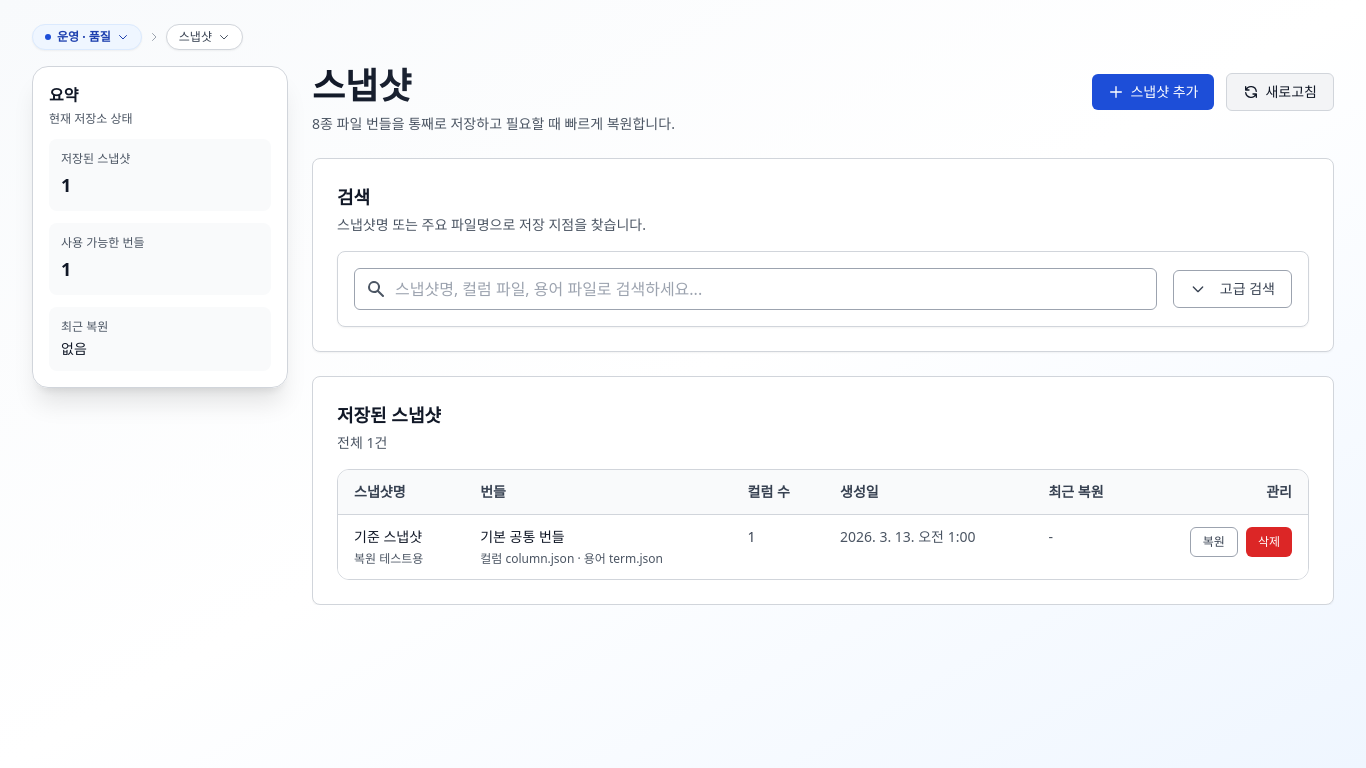
Test case: Snapshot browse page › should create a snapshot for the selected bundle
The width and height of the screenshot is (1366, 768).
Expected: the text "기준 스냅샷" is shown, [354,527,422,546]
Click the button "스냅샷 추가".
click(1153, 92)  # box [1092,74,1214,110]
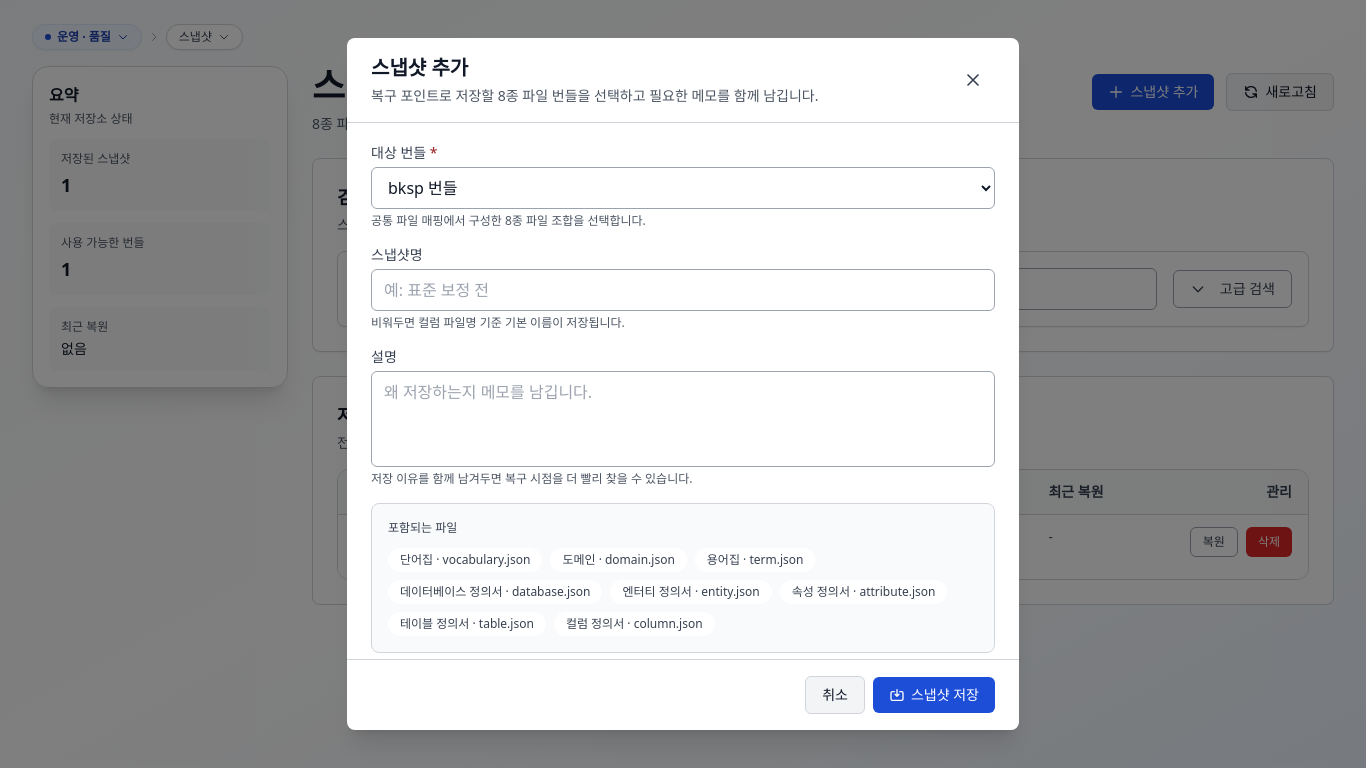
Type "표준 보정 전" into the field labelled "스냅샷명".
click(683, 290); type("표준 보정 전")  # box [371,269,995,311]
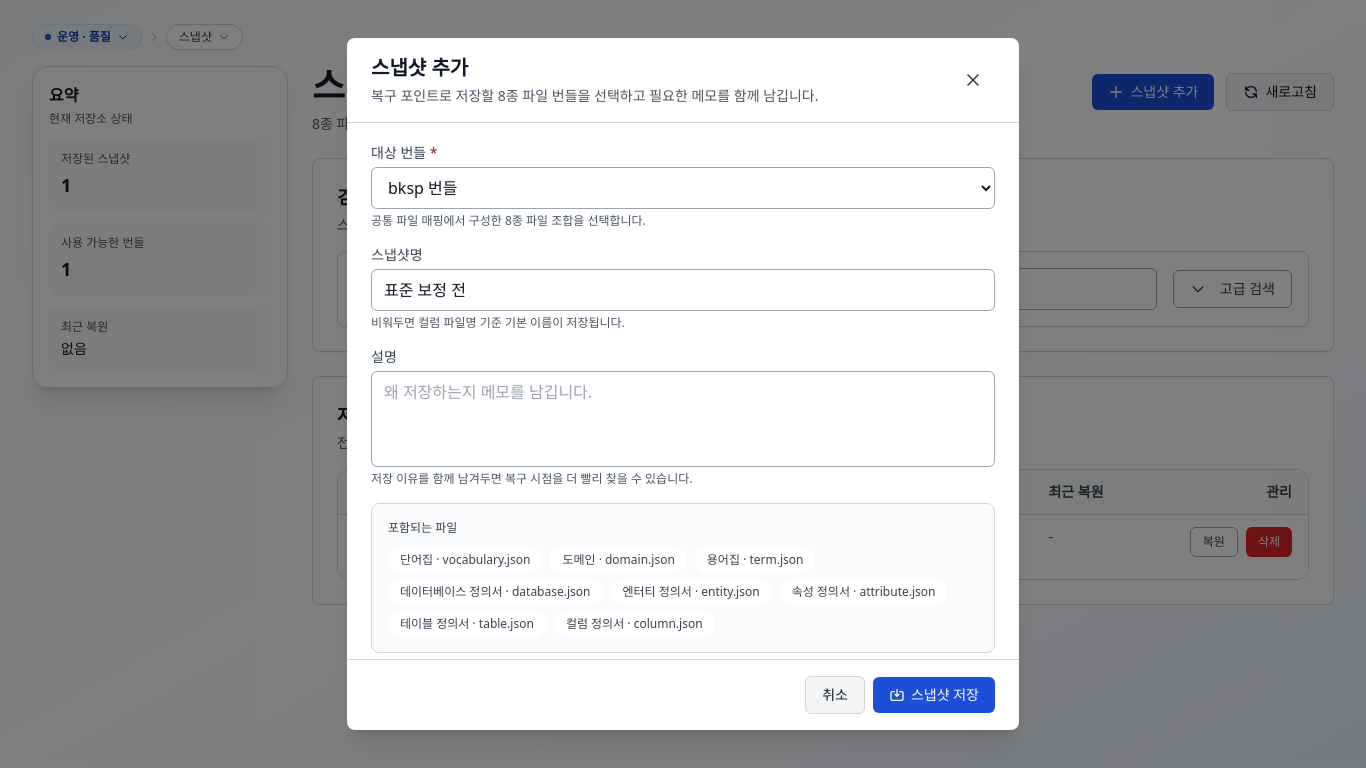
Type "자동 보정 실행 전 상태" into the text box labelled "설명".
click(683, 419); type("자동 보정 실행 전 상태")  # box [371,371,995,467]
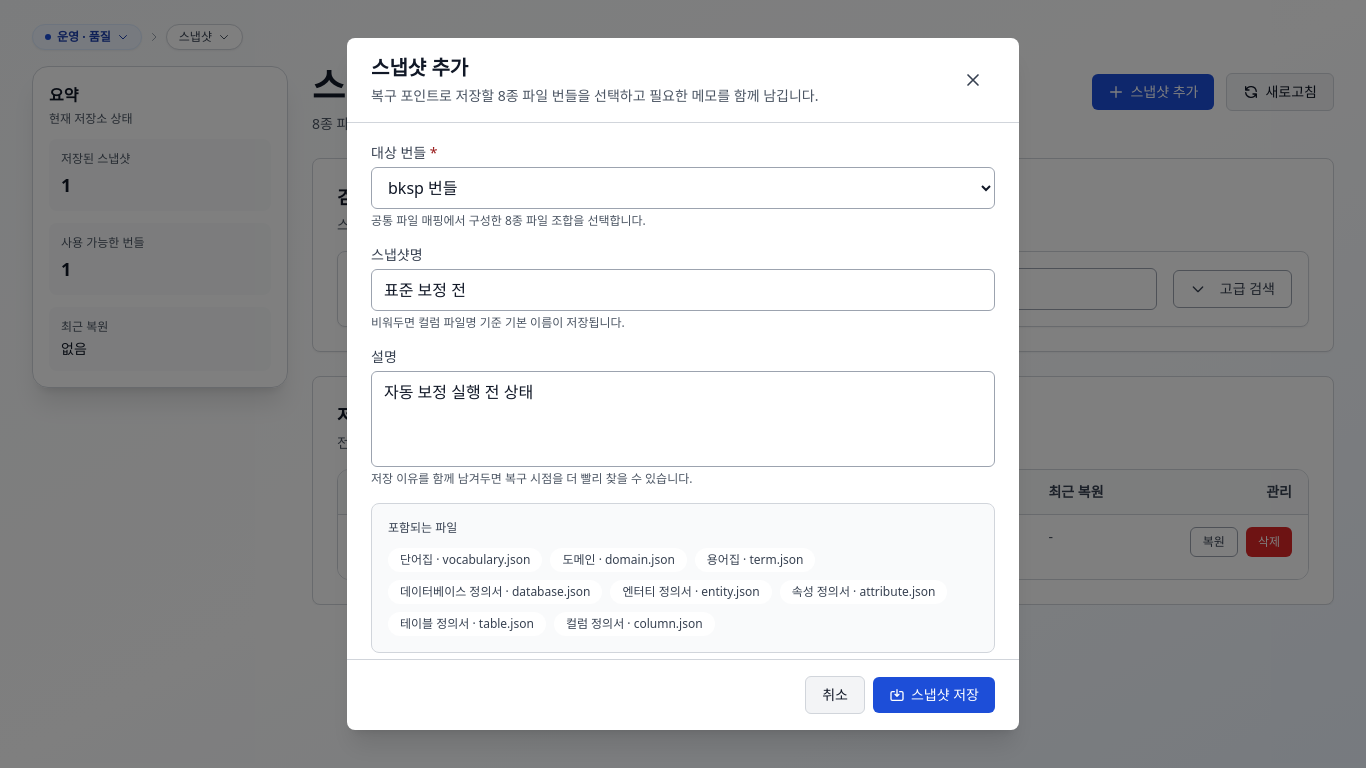
Click the button "스냅샷 저장".
click(934, 695)  # box [873,677,995,713]
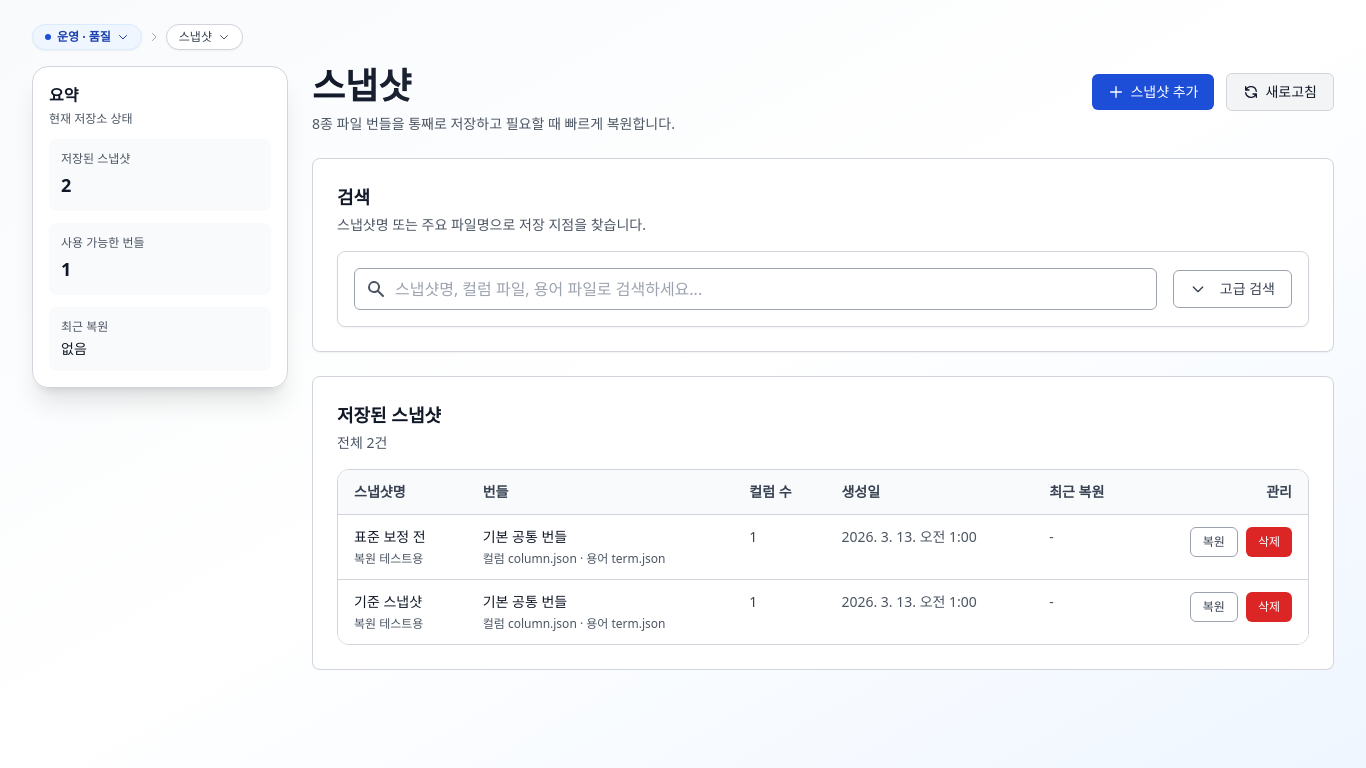
Expected: the text "표준 보정 전" is shown, [354,527,426,546]
